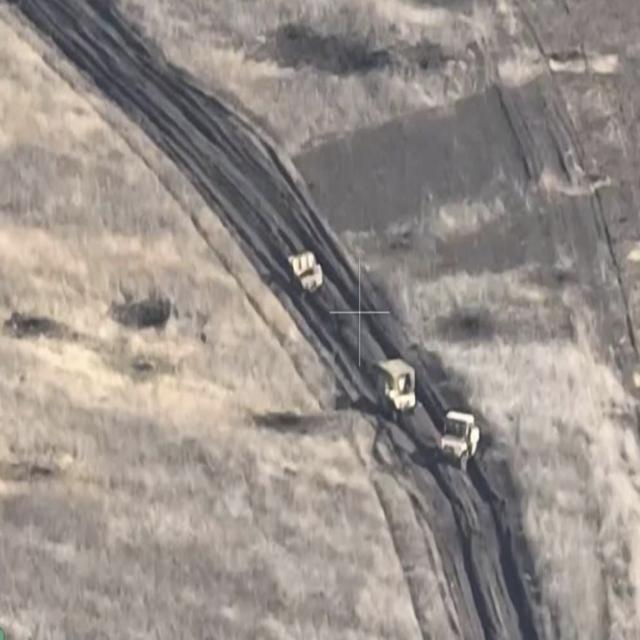vehicle: (376, 358, 416, 420), (442, 406, 479, 471), (287, 249, 323, 298)
